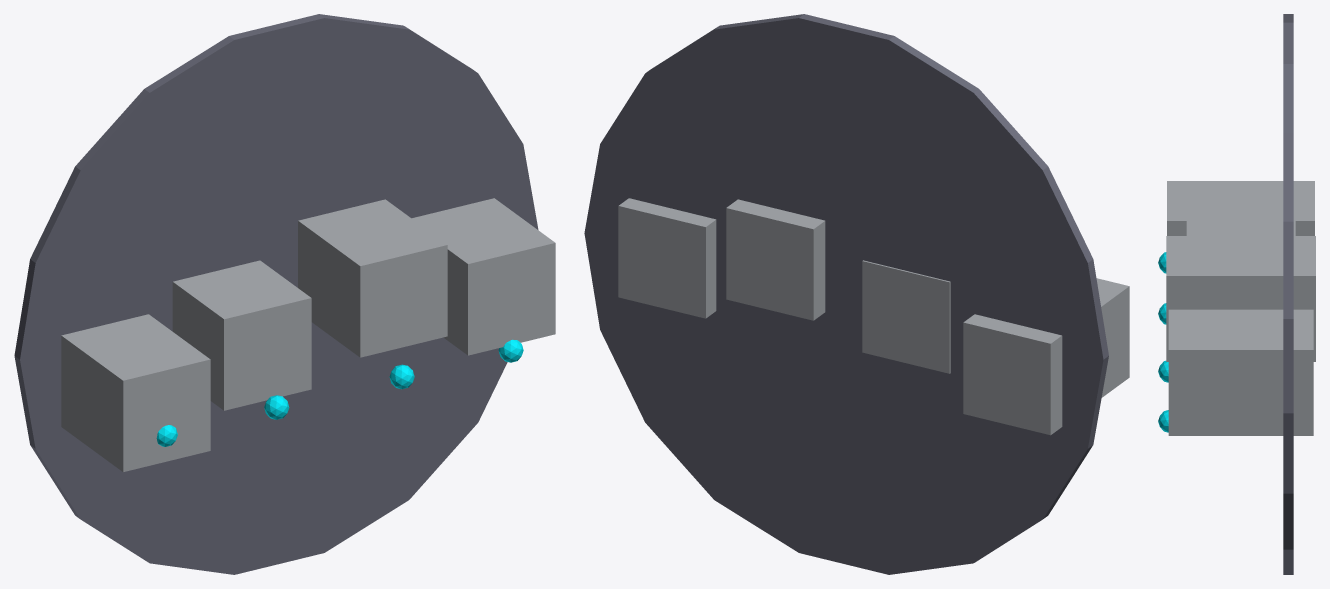
The model's file is 04_event_hazard_cluster.glb.
3 views of the same model, side by side, from view 1: azimuth 30°, elevation 25°; view 2: azimuth 150°, elevation 25°; view 3: azimuth 270°, elevation 25° (orthographic). The views are drawn at different scales.
Visible parts, largest first — view 1: scatter_base, tech_crate_2, tech_crate_0, tech_crate_1, tech_crate_3; view 2: scatter_base, tech_crate_0, tech_crate_2, tech_crate_3, tech_crate_1; view 3: tech_crate_3, tech_crate_2, scatter_base, tech_crate_0, tech_crate_1.
Part boxes in pixels (box(x1,y1,x2,y2)): scatter_base: box(14, 14, 538, 574); tech_crate_2: box(298, 199, 447, 357); tech_crate_0: box(61, 314, 210, 472); tech_crate_1: box(172, 260, 311, 410); tech_crate_3: box(412, 198, 555, 355); scatter_base: box(584, 14, 1108, 574); tech_crate_0: box(963, 278, 1129, 435); tech_crate_2: box(726, 199, 825, 320); tech_crate_3: box(618, 198, 716, 318); tech_crate_1: box(862, 260, 950, 373); tech_crate_3: box(1168, 309, 1313, 435); tech_crate_2: box(1166, 236, 1315, 361); scatter_base: box(1283, 14, 1293, 574); tech_crate_0: box(1167, 181, 1314, 235); tech_crate_1: box(1186, 207, 1295, 235).
Bounding box in the file's own units: 1.9 × 1.87 × 0.5323.
